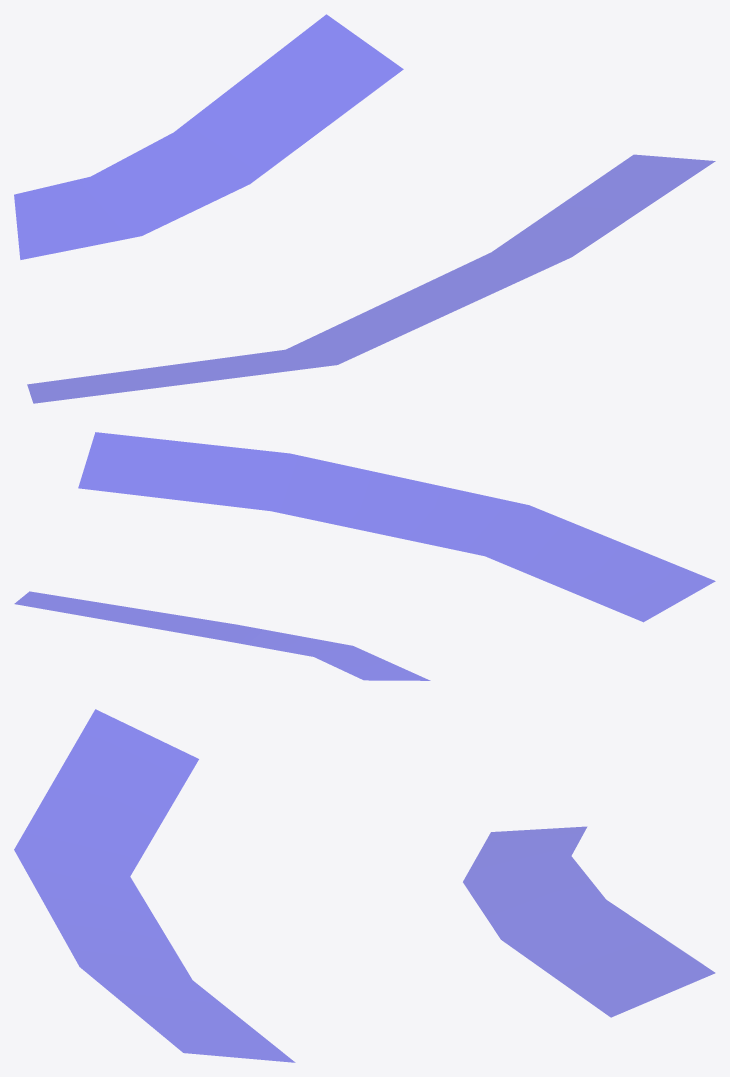
File: track_la_coll_off_02.fbx
3 renders of one model, top to bottom at view 1: azimuth 30°, elevation 25°; view 2: azimuth 150°, elevation 25°; view 3: azimuth 270°, elevation 25°, orthographic. The views are drawn at different scales.
Visible parts, largest first — view 1: track_la_coll_off_02; view 2: track_la_coll_off_02; view 3: track_la_coll_off_02.
Part boxes in pixels (x1,y1,x2,y2): track_la_coll_off_02: (14,14,715,403); track_la_coll_off_02: (14,432,715,680); track_la_coll_off_02: (14,709,714,1062).
Size of the model in its own units: 71.36 by 6.63 by 55.16.
